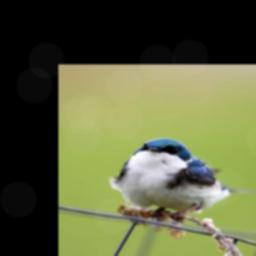Swallow: (108, 137, 256, 223)
